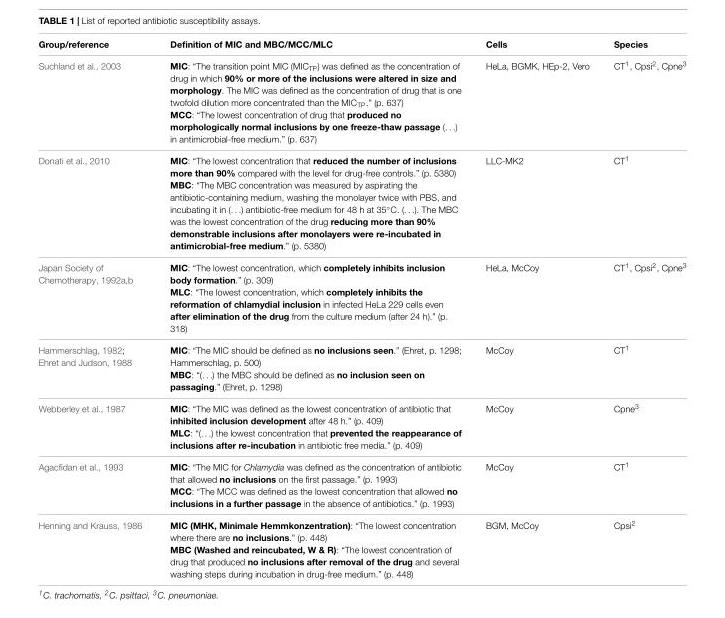table: (37, 37, 685, 578)
table column: (155, 37, 472, 578), (472, 37, 600, 578), (37, 37, 155, 578), (600, 37, 685, 578)
table column header: (37, 37, 685, 53)
table row: (37, 148, 685, 255), (37, 53, 685, 148), (37, 255, 685, 337), (37, 512, 685, 578), (37, 337, 685, 396), (37, 396, 685, 454), (37, 454, 685, 512), (37, 37, 685, 53)
